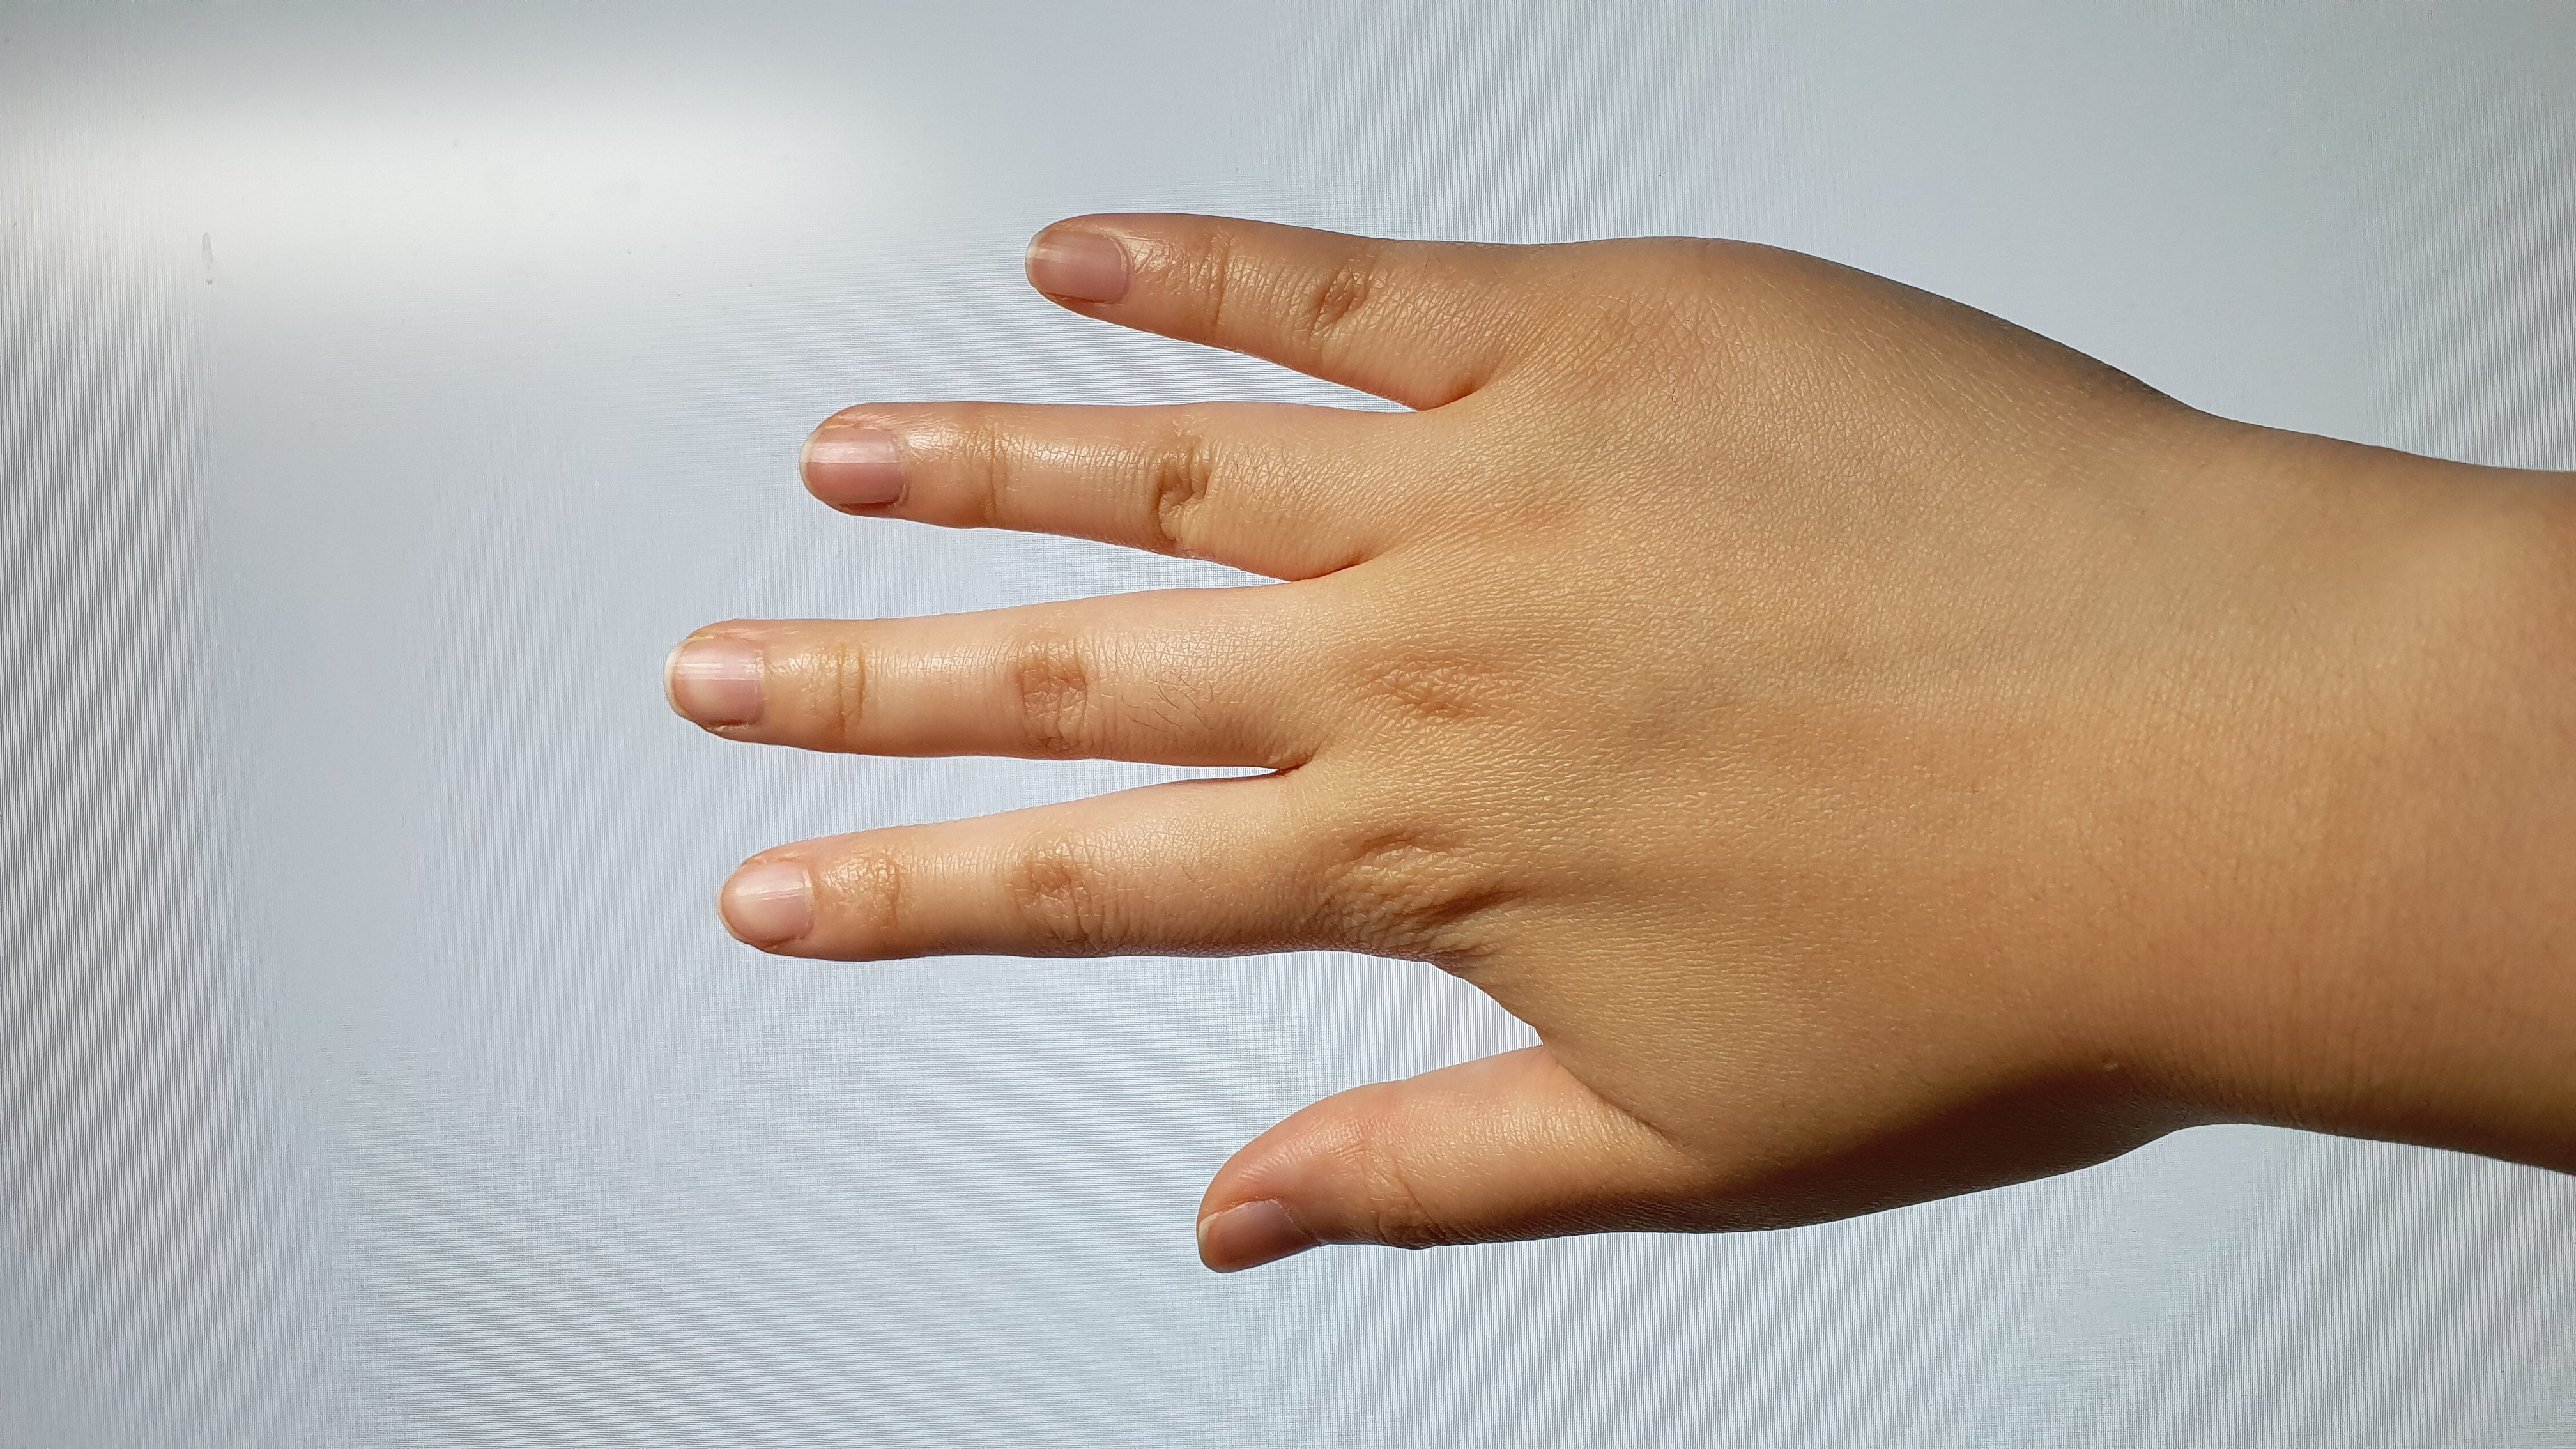backhand: (1336, 290, 2220, 1198)
hand: (651, 196, 2226, 1299)
index finger: (718, 771, 1375, 973)
middle finger: (656, 591, 1307, 777)
pinky: (1016, 196, 1518, 400)
ring finger: (796, 412, 1405, 573)
thumb: (1185, 1046, 1670, 1286)
